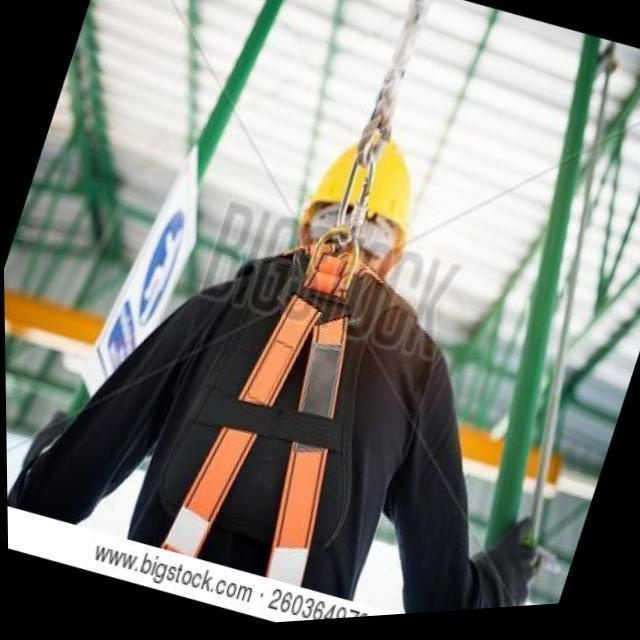Arnes_seguridad: (157, 232, 366, 582)
